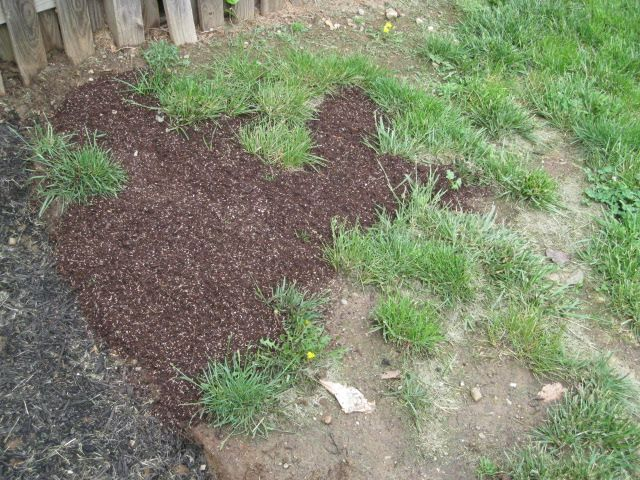dirt: (67, 117, 255, 386), (264, 110, 386, 282)
grass: (396, 3, 639, 474), (146, 53, 392, 113)
